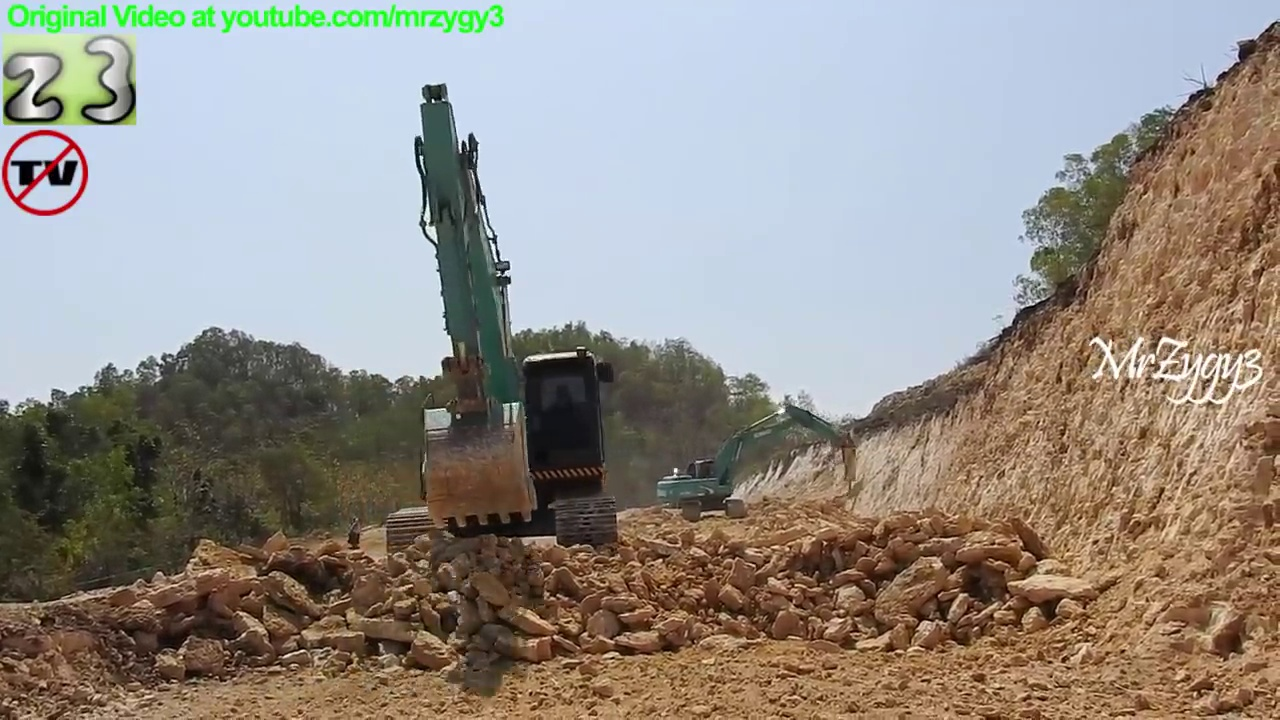excavator: (381, 79, 622, 572)
excavator breaker: (653, 402, 862, 527)
